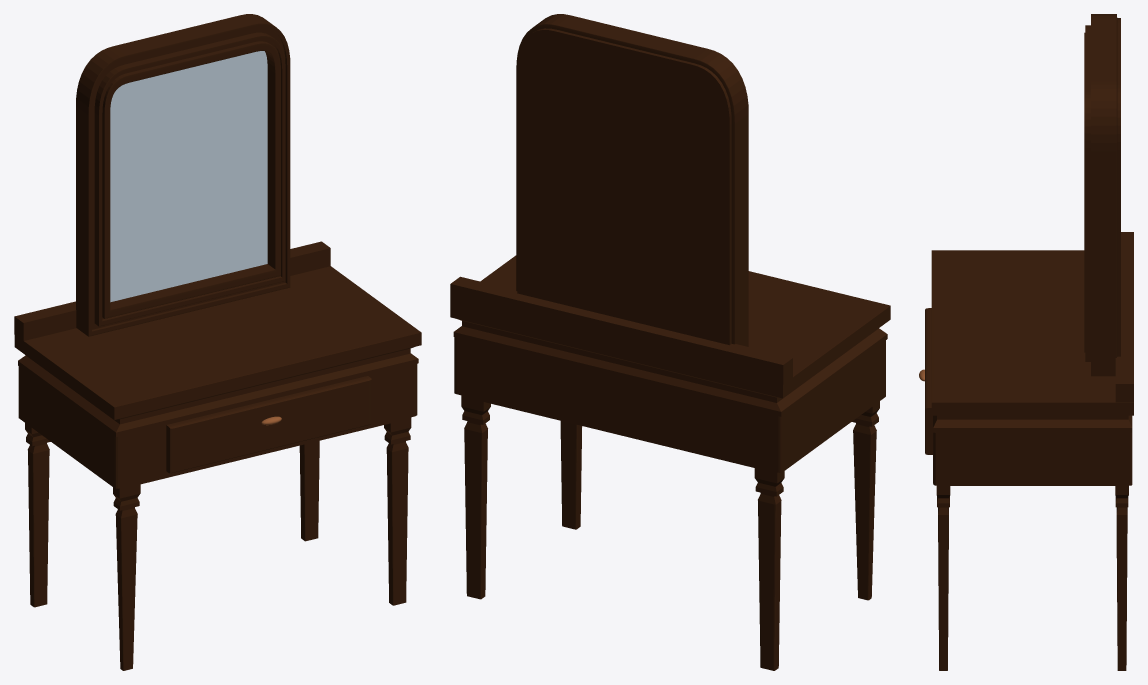
Rendered from coiffeuse.fbx.
3 renders of one model, left to right at view 1: azimuth 30°, elevation 25°; view 2: azimuth 150°, elevation 25°; view 3: azimuth 270°, elevation 25°, orthographic. The views are drawn at different scales.
Parts seen in each view (by area): view 1: Cube, Cube.002, Cube.001, Cube.003; view 2: Cube, Cube.001; view 3: Cube, Cube.001, Cube.003.
Part boxes in pixels (bbox=[...]): Cube: bbox=[14, 241, 421, 670]; Cube.002: bbox=[110, 51, 267, 302]; Cube.001: bbox=[76, 14, 290, 336]; Cube.003: bbox=[166, 376, 371, 473]; Cube: bbox=[450, 255, 890, 670]; Cube.001: bbox=[516, 14, 748, 346]; Cube: bbox=[931, 232, 1133, 670]; Cube.001: bbox=[1084, 14, 1120, 376]; Cube.003: bbox=[925, 308, 932, 454].
Bounding box in the file's own units: 402 × 679 × 240.
